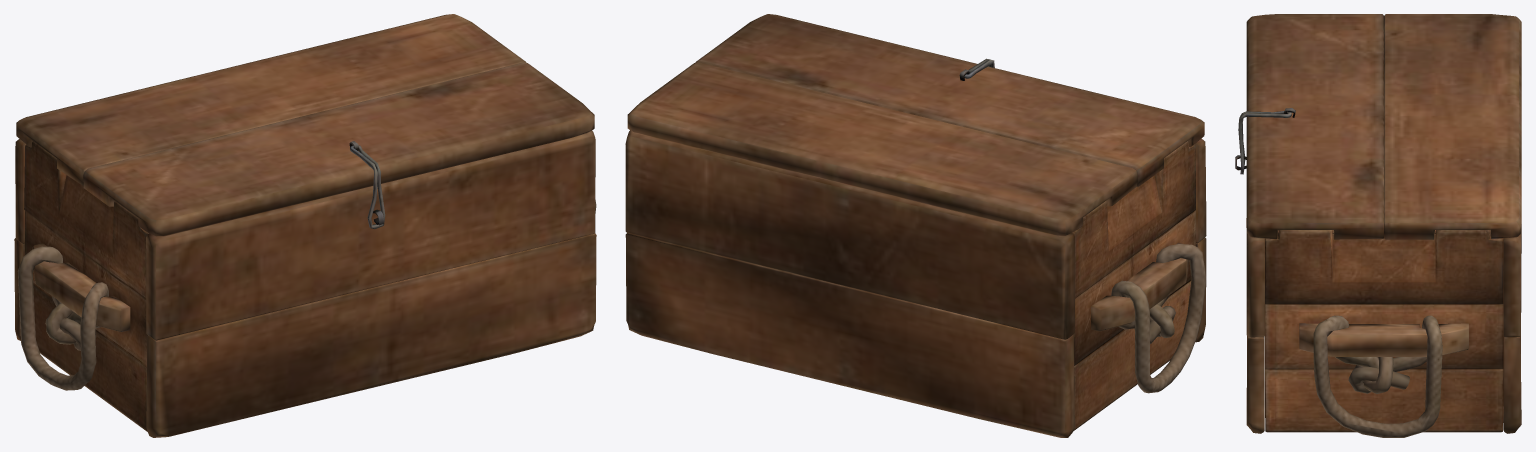
Rendered from wooden_crate_01.glb.
3 renders of one model, left to right at view 1: azimuth 30°, elevation 25°; view 2: azimuth 150°, elevation 25°; view 3: azimuth 270°, elevation 25°, orthographic. The views are drawn at different scales.
Visible parts, largest first — view 1: wooden_crate_01_lid; view 2: wooden_crate_01_lid; view 3: wooden_crate_01_lid.
Boxes of the visible parts, left/top/right/bottom form: wooden_crate_01_lid: left=14, top=14, right=596, bottom=437; wooden_crate_01_lid: left=625, top=14, right=1206, bottom=437; wooden_crate_01_lid: left=1235, top=14, right=1521, bottom=437.
Bounding box in the file's own units: 0.8245 × 0.3495 × 0.4071.
1 material, 1 textured.
